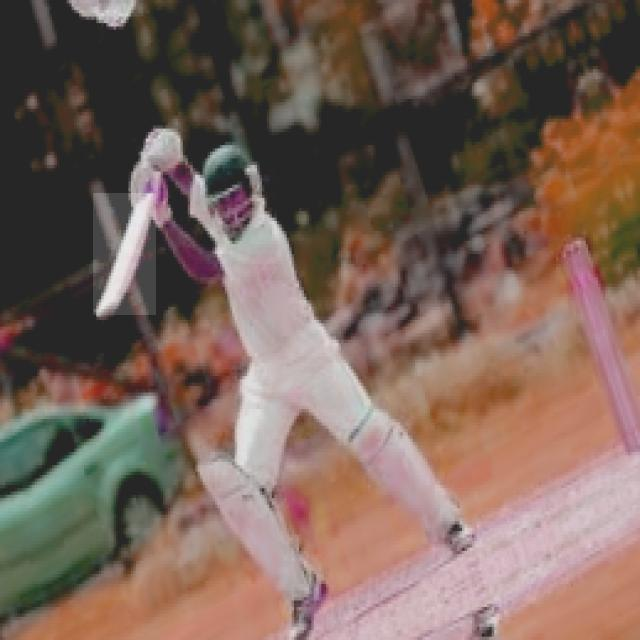bat: (92, 191, 151, 318)
toe: (92, 305, 124, 323)
